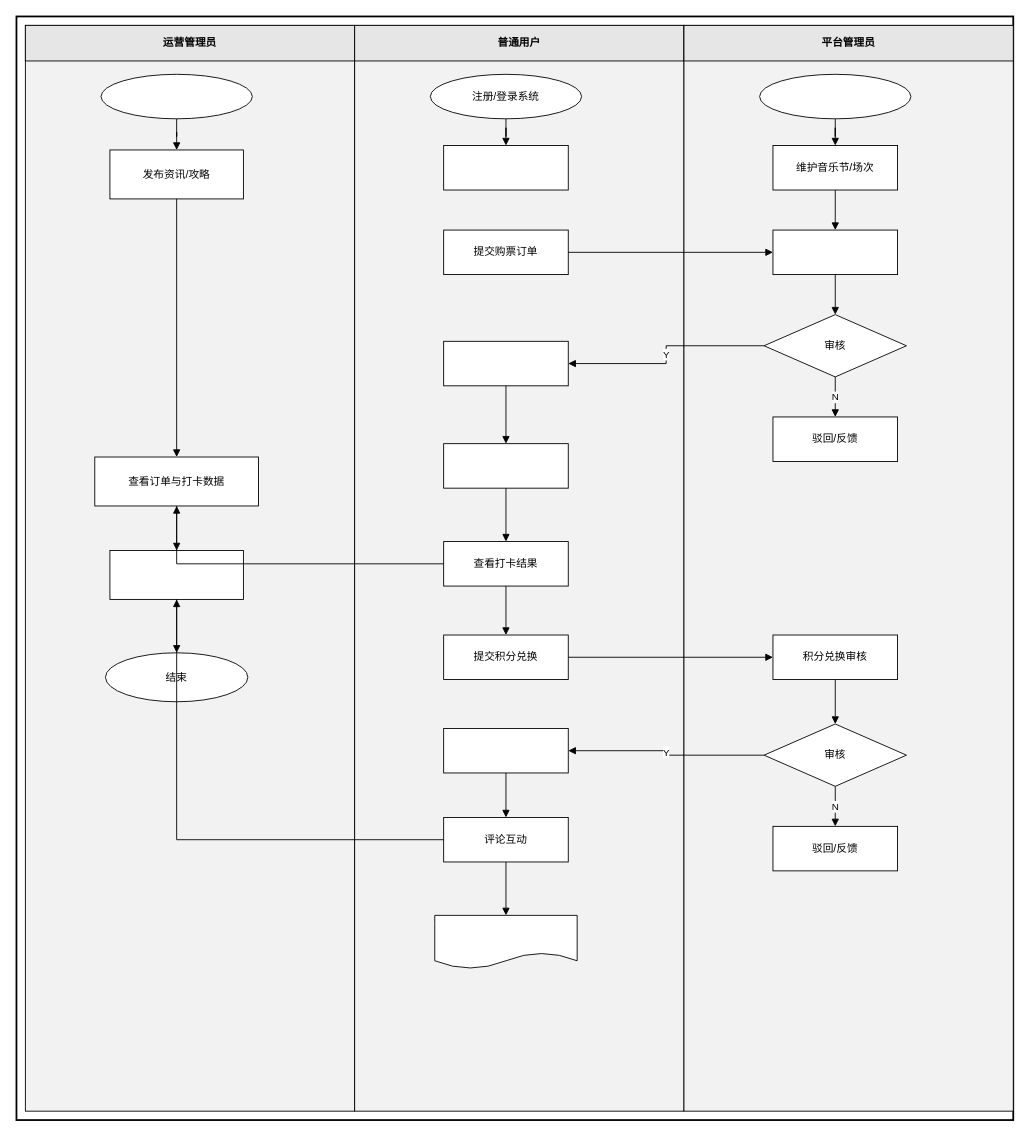
Some shapes in this 1029 by 1136 pixel diagram are drawn without their labels. The centre of each missing label's shape, as x and y in pixels:
参与任务打卡: point 505,465
处理评论答疑: point 176,574
查看兑换结果: point 505,750
查看购票结果: point 505,363
查看音乐节公告: point 505,167
电子票/积分记录: point 505,941
登录后台系统: point 176,96
登录管理后台: point 835,96
票务订单处理: point 835,252
